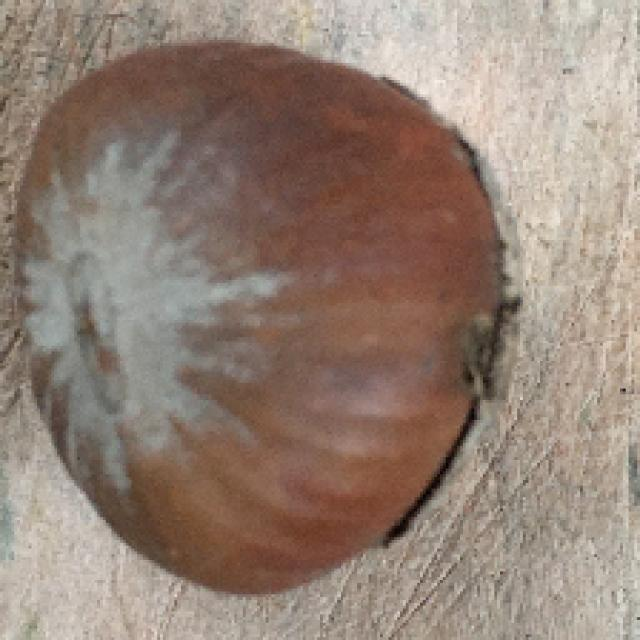qualityHazelnut: (16, 31, 524, 591)
